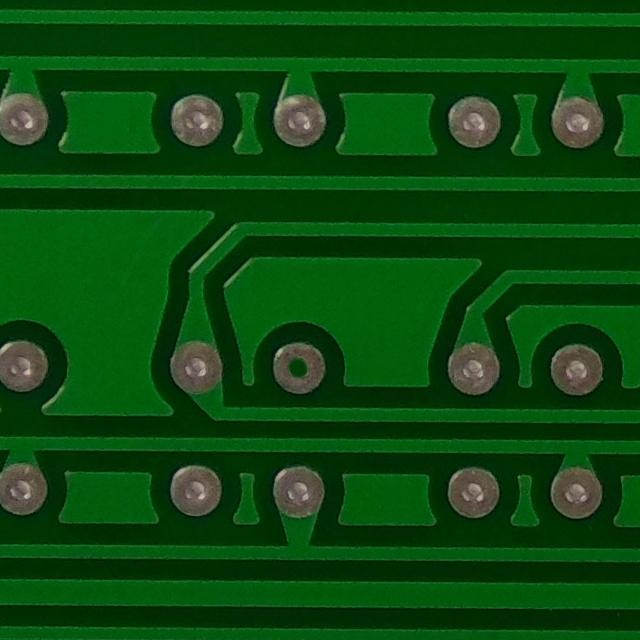missing_hole: (269, 337, 335, 406)
